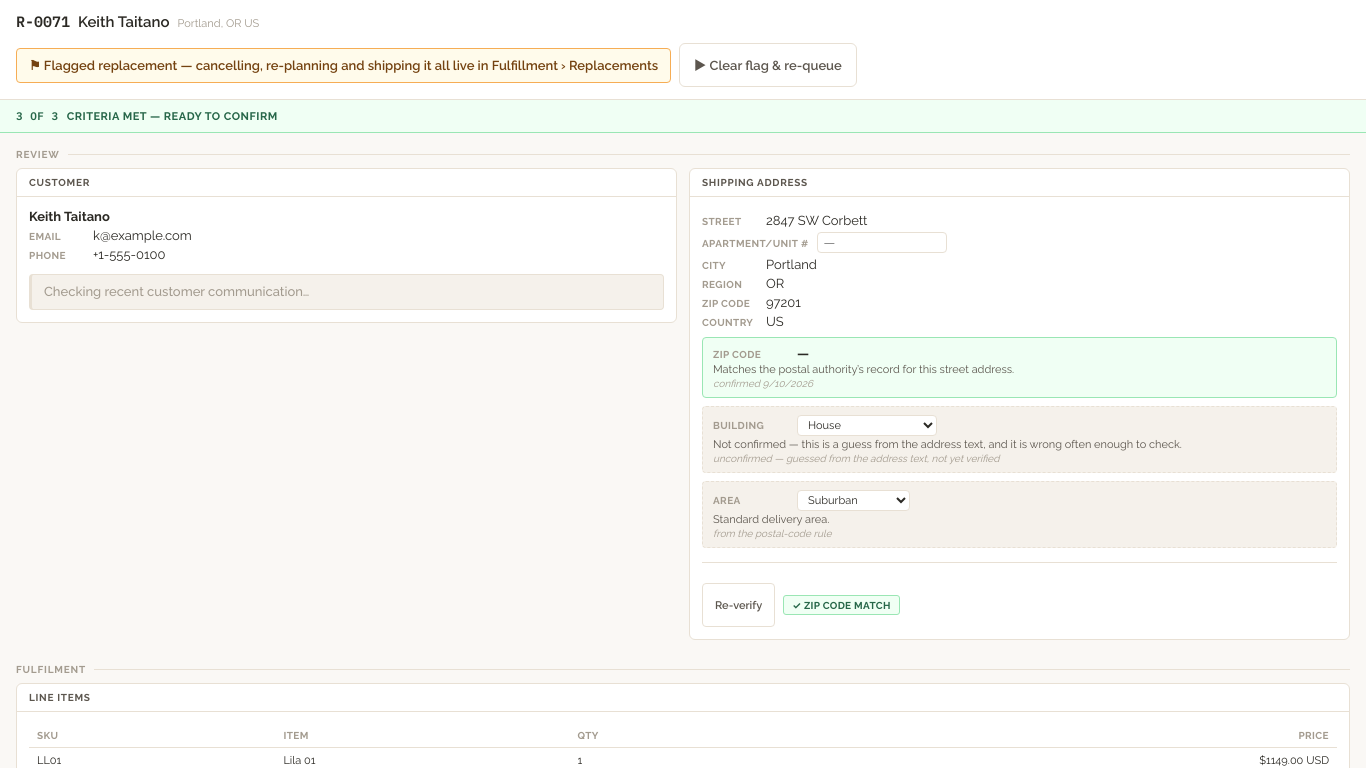
Detail — flagged replacement › asks before queueing a short replacement, and stays on the order
Click the button "▶ Clear flag & re-queue".
click(768, 65)  # box x1=679 y1=43 x2=857 y2=87
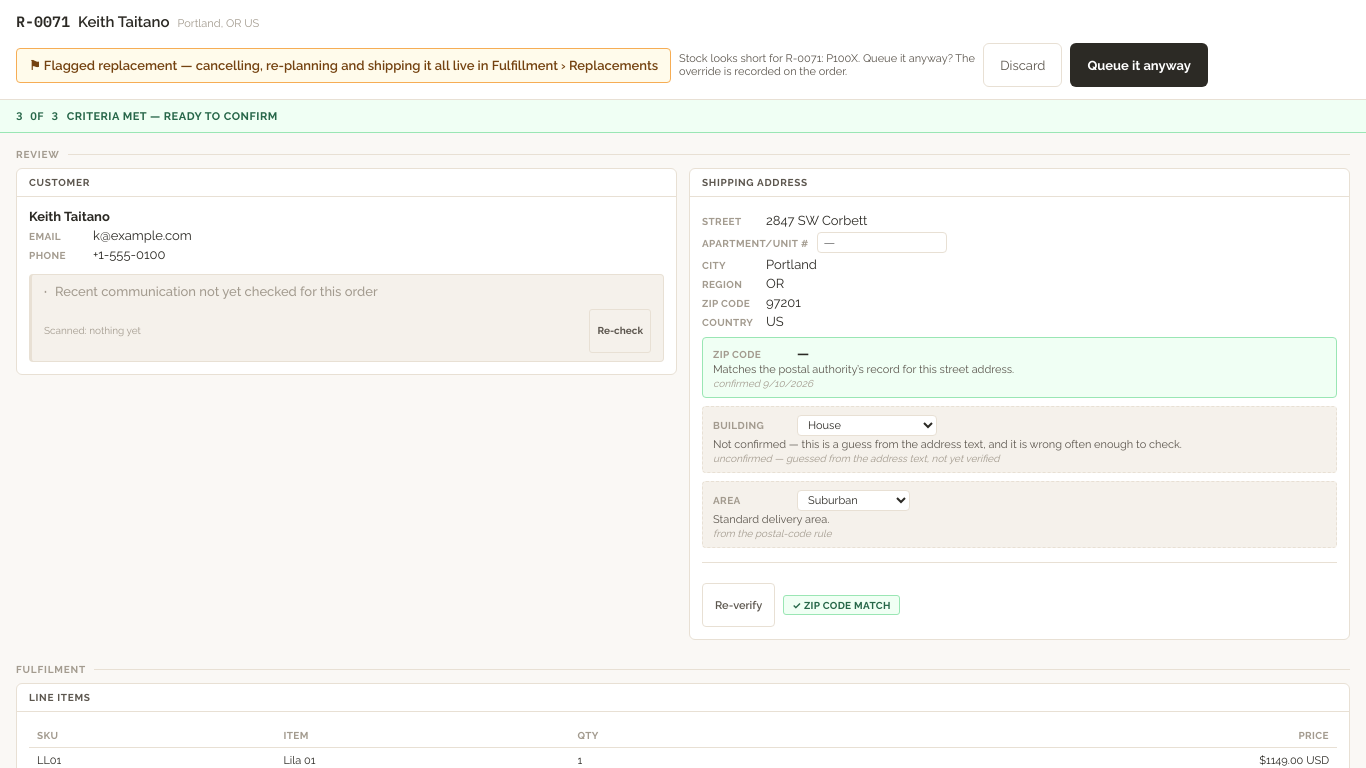
Expected: the text "Stock looks short" is shown, x1=679 y1=52 x2=786 y2=65
Expected: the text "P100X" is shown, x1=826 y1=52 x2=858 y2=65
